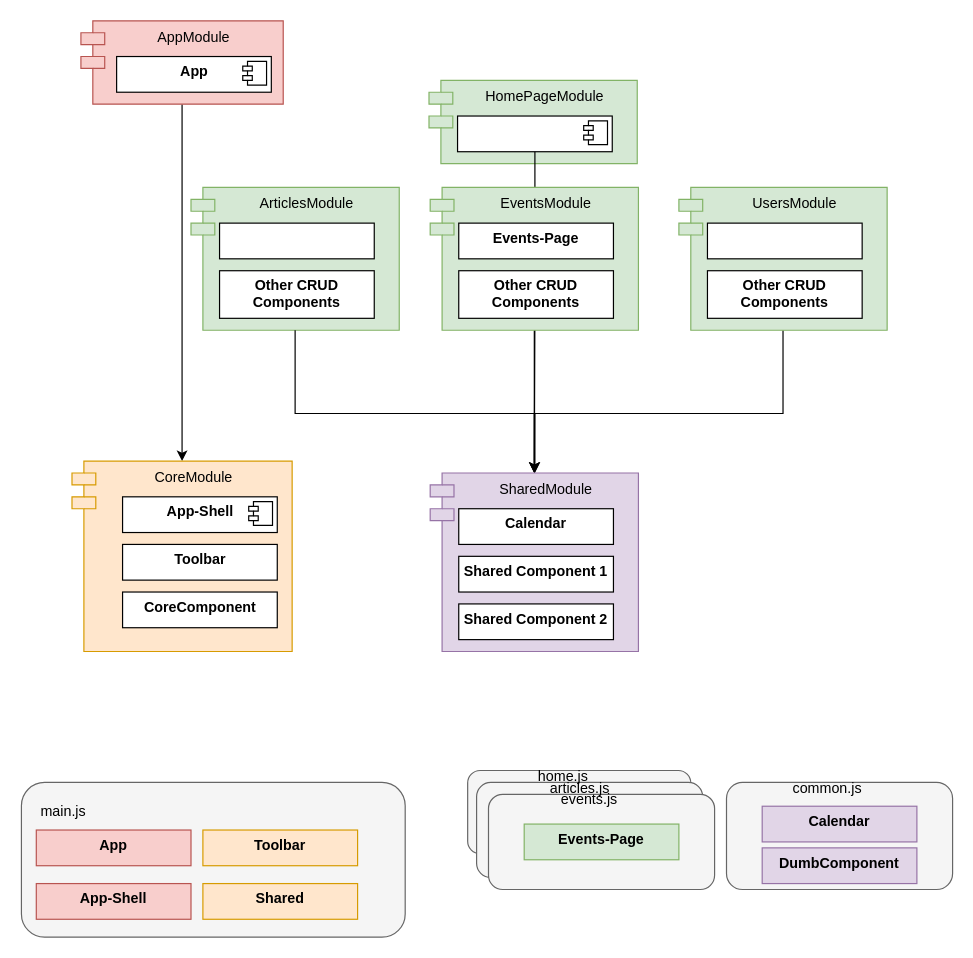
The diagram is 973 pixels wide and 958 high, and some of its shapes have lost their labels. The centre of each missing label's shape, as x and y in pixels:
Articles-Page: point 296,240
Home-Page: point 534,133
Users-Page: point 784,240
